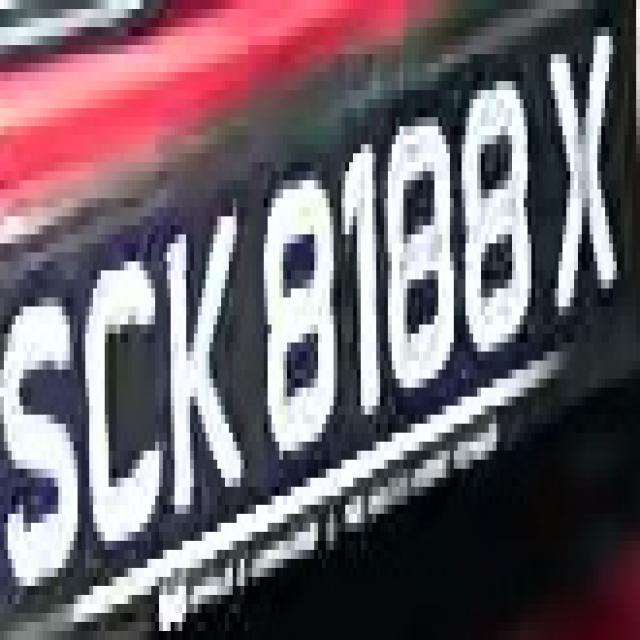1: (334, 99, 392, 478)
8: (376, 90, 462, 433), (454, 63, 551, 361), (248, 162, 342, 460)
C: (81, 216, 167, 550)
K: (144, 198, 240, 523)
S: (12, 252, 82, 595)
X: (539, 18, 621, 316)
